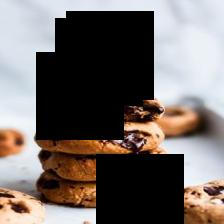brown: (34, 93, 170, 208), (168, 180, 224, 224), (156, 106, 203, 137), (0, 129, 25, 157)
